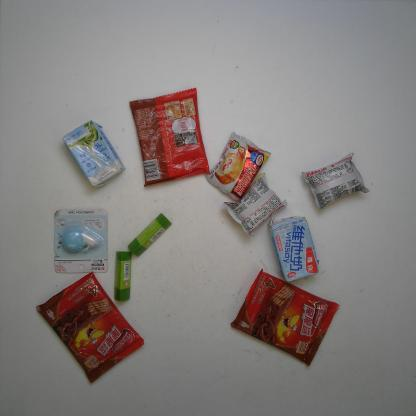Dessert: (36, 271, 148, 384), (230, 265, 340, 367), (127, 88, 212, 188), (207, 129, 271, 203), (300, 150, 370, 210), (226, 172, 287, 236)
Milk: (62, 122, 122, 186), (269, 216, 319, 286)
Stationery: (51, 208, 111, 276), (127, 212, 174, 257), (113, 249, 132, 304)
